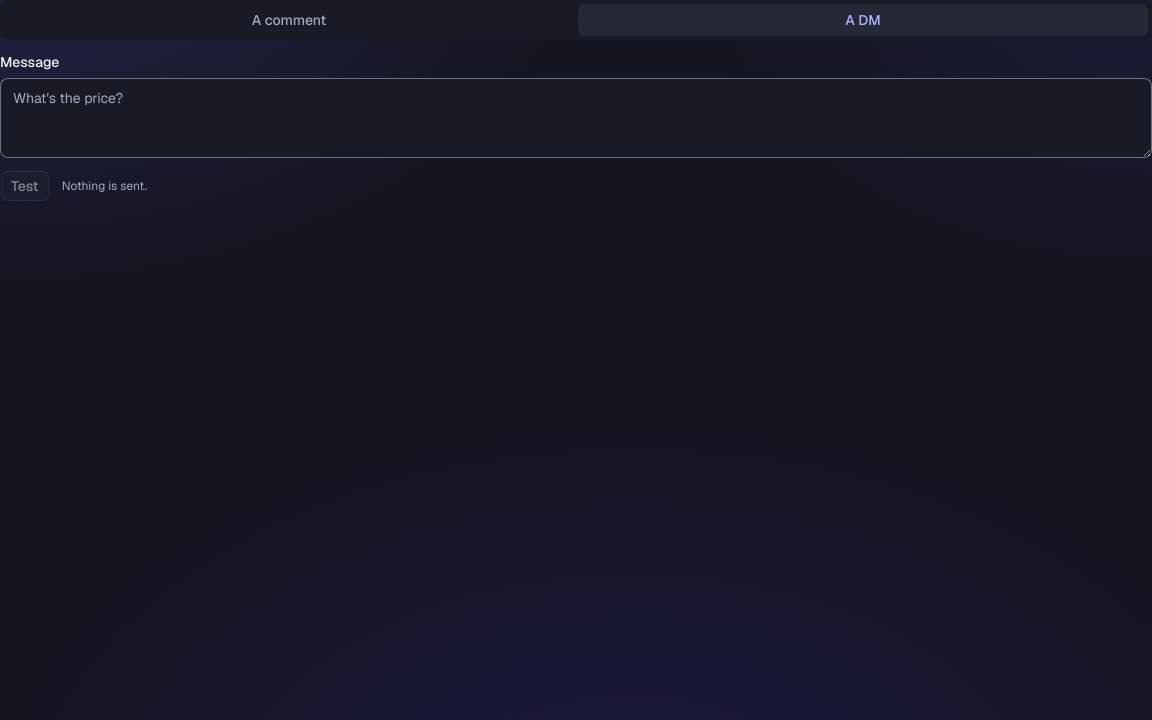
MatchTester (UX-SCR-03 Test) › a flow: the walk shows one way through, and picking another way tests again
This screenshot has width=1152, height=720.
Click the radio button labelled "A DM": (863, 20) [578,4,1148,36]
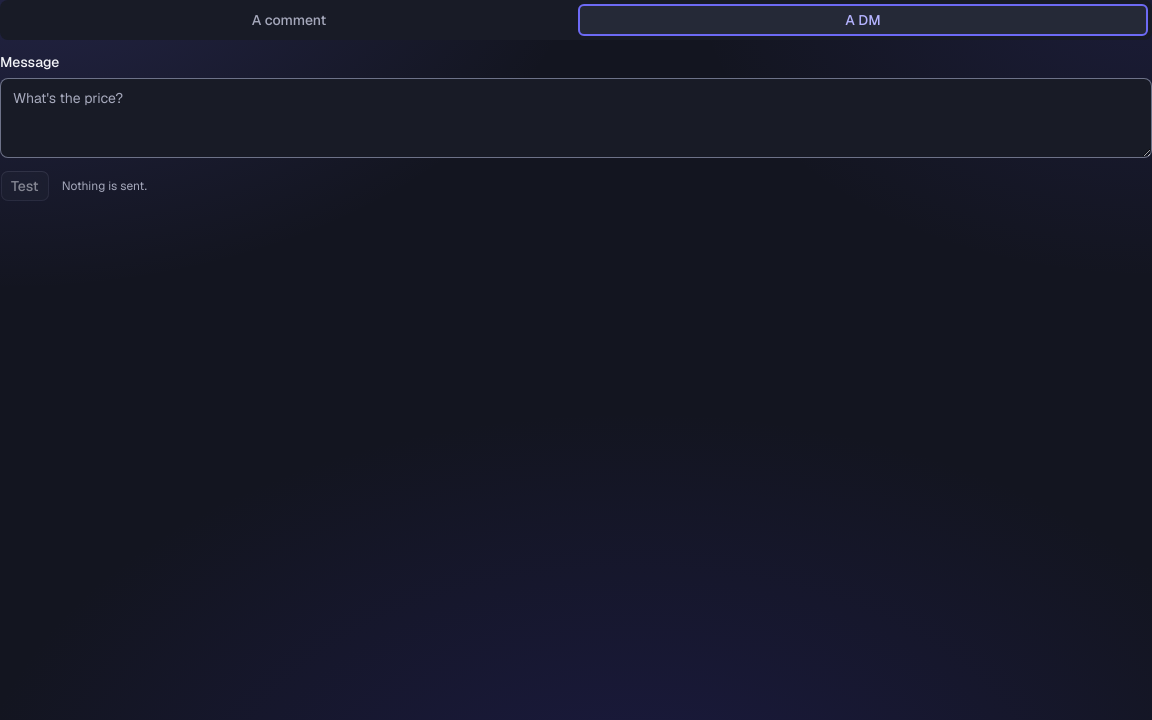
In the text box labelled "Message": (576, 118) [0,78,1151,158], type "link"
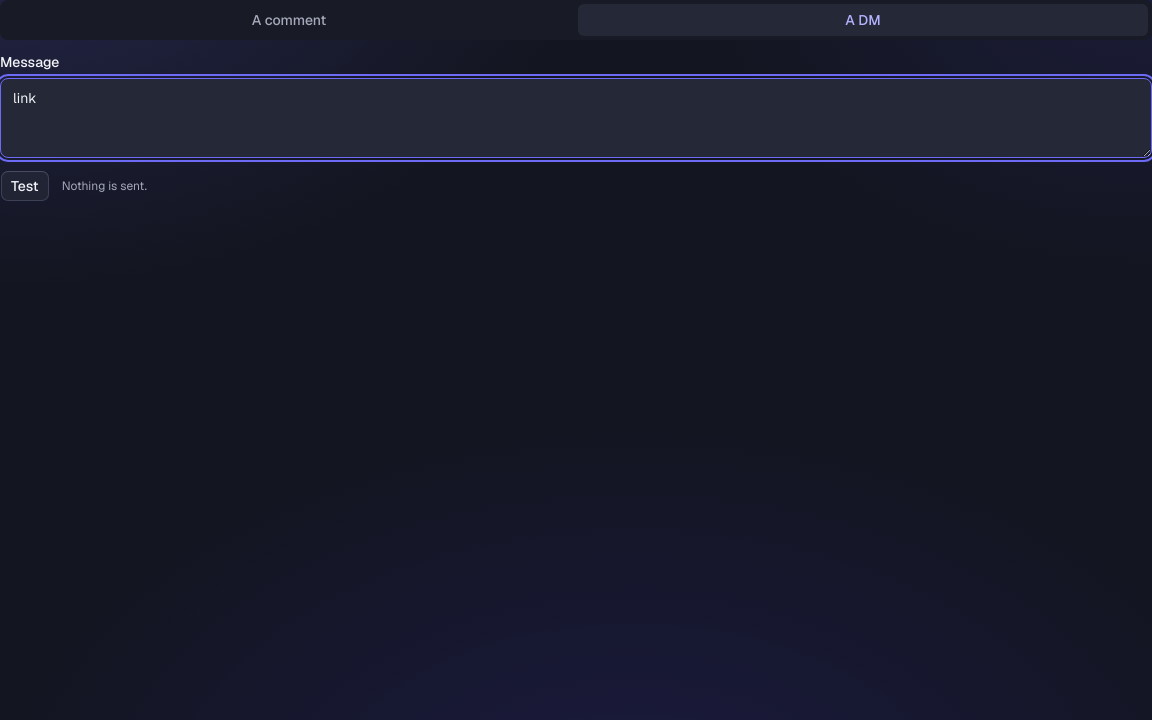
Click the button "Test": (25, 186) [0,170,50,202]
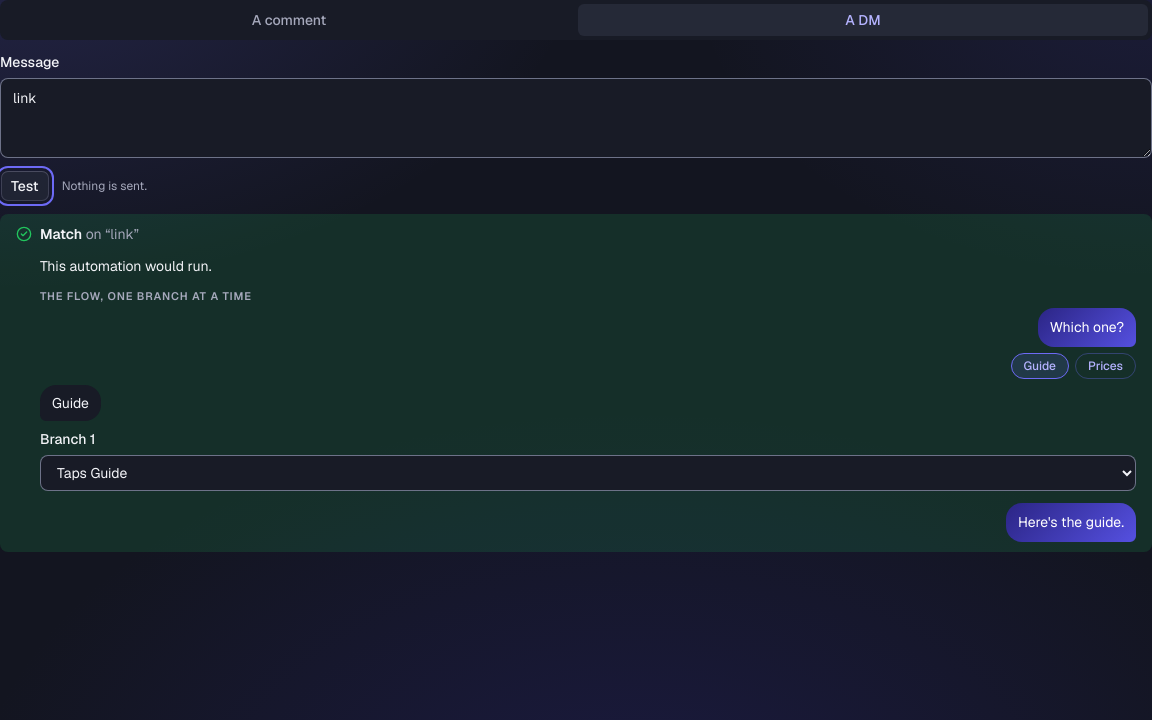
expect the text "Here's the guide." is shown: met, box [1018,511,1124,534]
Select "Taps Prices" in the dropdown labelled "Branch 1": (588, 473) [40,455,1136,491]
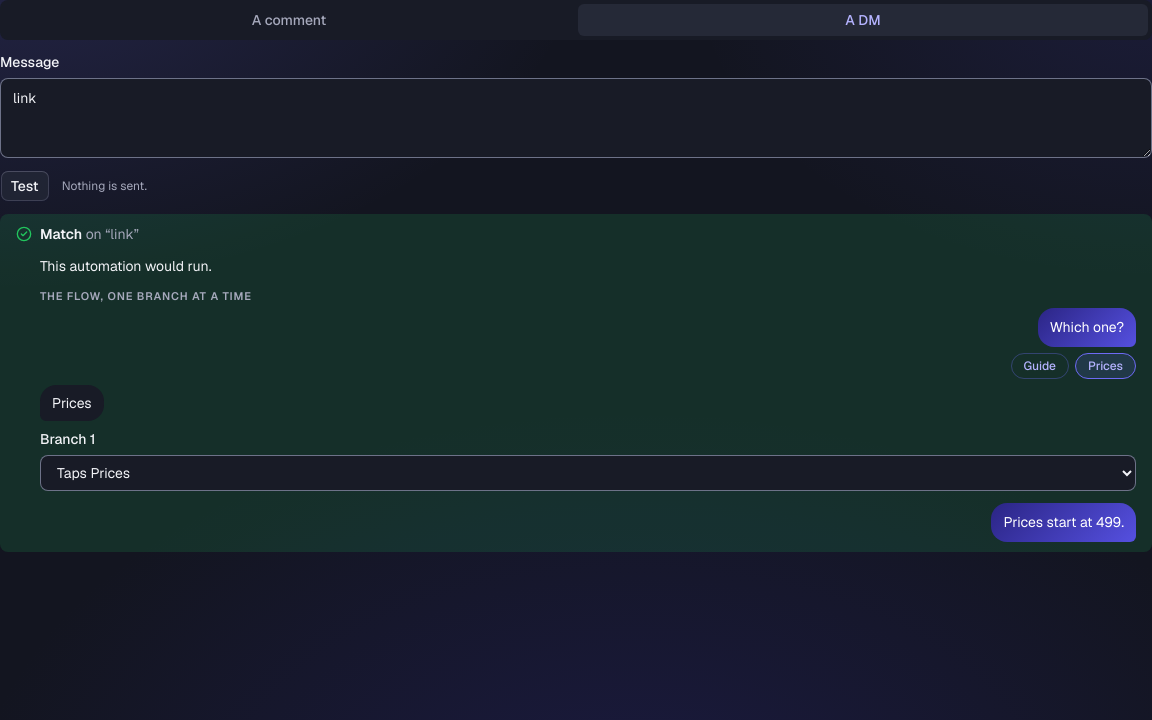
expect the text "Prices start at 499." is shown: met, box [1003,511,1124,534]
